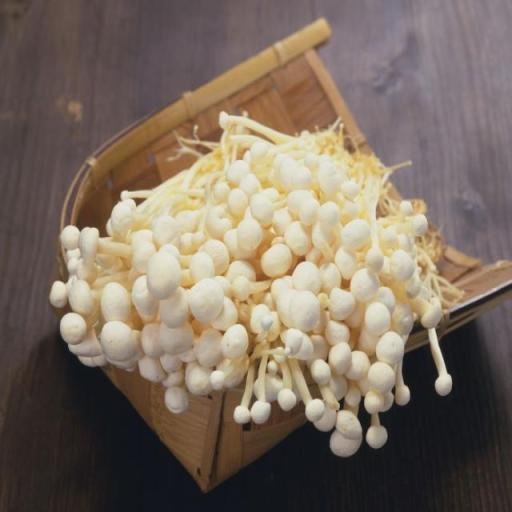Enoki Mushroom: (50, 113, 466, 452)
